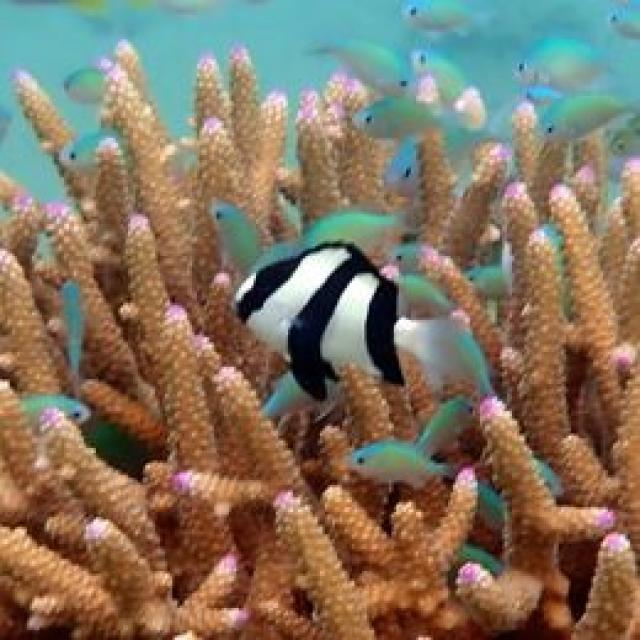Three_striped DasmselFish: (236, 237, 457, 400)
